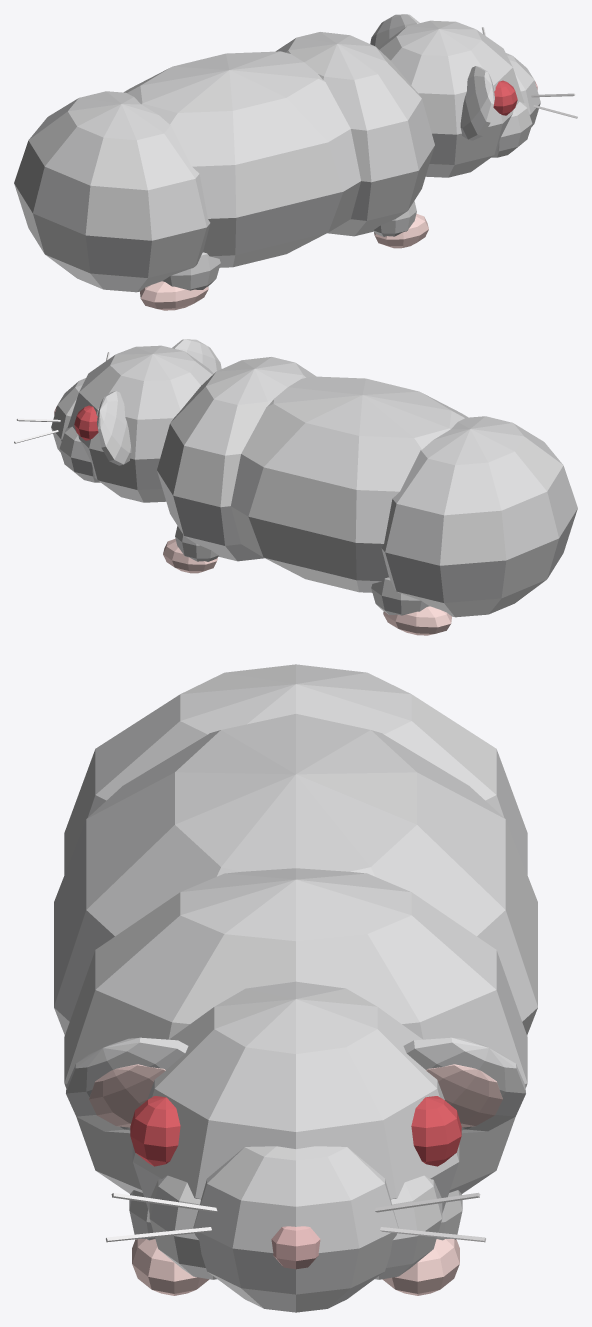
The model's file is animal_guinea_pig.glb.
3 views of the same model, one above another, from view 1: azimuth 30°, elevation 25°; view 2: azimuth 150°, elevation 25°; view 3: azimuth 270°, elevation 25° (orthographic). The views are drawn at different scales.
Parts seen in each view (by area): view 1: Kob_ArkBacak_-1; view 2: Kob_ArkBacak_-1; view 3: Kob_ArkBacak_-1.
Part boxes in pixels (bbox=[...]): Kob_ArkBacak_-1: bbox=[14, 14, 577, 310]; Kob_ArkBacak_-1: bbox=[14, 339, 577, 635]; Kob_ArkBacak_-1: bbox=[54, 664, 537, 1312].
Bounding box in the file's own units: 4.2 × 1.5 × 1.75.
